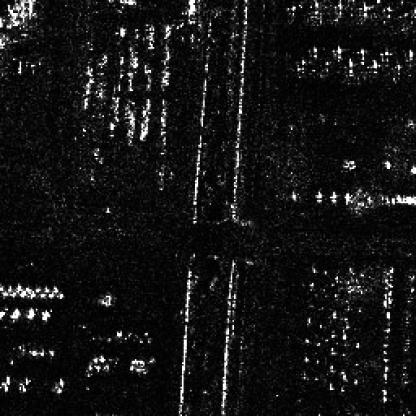airplane: (292, 57, 310, 70), (308, 2, 322, 18), (359, 3, 371, 20), (393, 62, 405, 78), (369, 57, 382, 71), (380, 47, 392, 62), (404, 46, 414, 64), (284, 2, 298, 14), (332, 2, 344, 16), (380, 159, 394, 171), (331, 46, 343, 58), (358, 45, 367, 61), (326, 188, 336, 202), (384, 6, 393, 20), (320, 60, 330, 72), (314, 190, 324, 202), (309, 46, 318, 58), (342, 190, 350, 203), (348, 57, 356, 67), (393, 0, 406, 6), (370, 0, 384, 5), (53, 292, 64, 298), (13, 284, 21, 291), (5, 284, 11, 292), (28, 291, 34, 299), (38, 292, 46, 298), (24, 286, 31, 292), (42, 286, 49, 292), (51, 286, 58, 292), (47, 291, 54, 297), (8, 291, 16, 296), (18, 291, 24, 297), (34, 286, 39, 292), (350, 0, 358, 3), (322, 0, 333, 2)
